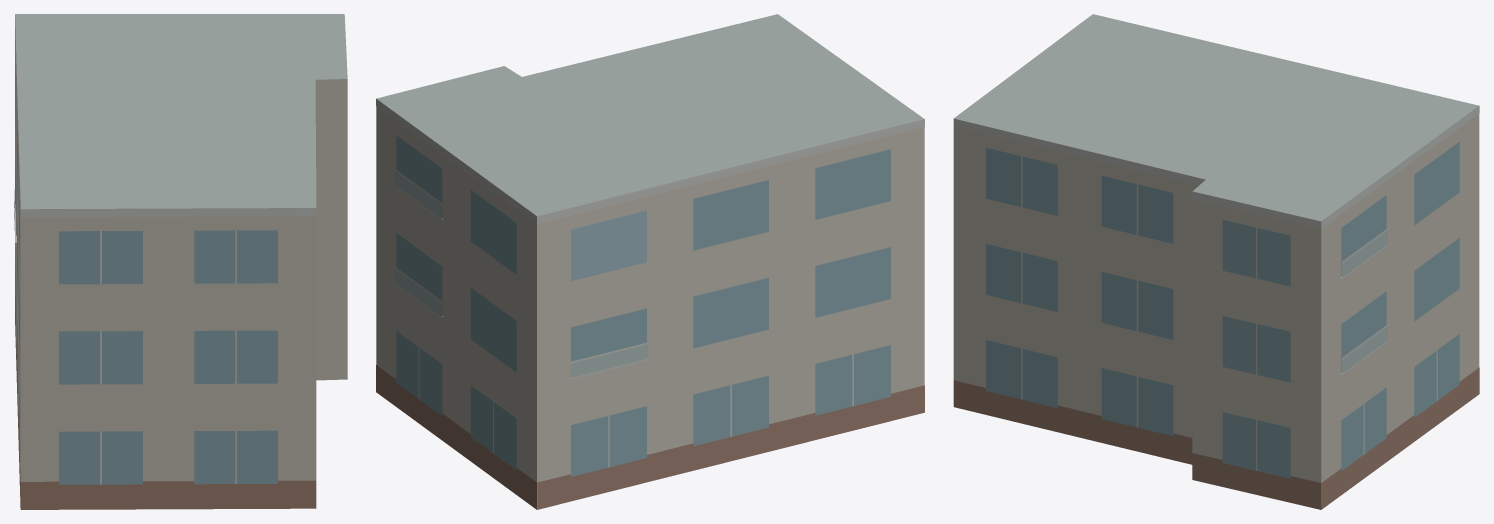
Rendered from survey-upis-32656174.glb.
The picture shows the model from 3 angles, left to right: view 1: azimuth 30°, elevation 25°; view 2: azimuth 150°, elevation 25°; view 3: azimuth 270°, elevation 25°; orthographic projection. The views are drawn at different scales.
Parts seen in each view (by area): view 1: survey-upis-32656174.tmp; view 2: survey-upis-32656174.tmp; view 3: survey-upis-32656174.tmp.
Part boxes in pixels (x1,y1,x2,y2): survey-upis-32656174.tmp: (14,14,347,509); survey-upis-32656174.tmp: (376,14,924,509); survey-upis-32656174.tmp: (953,14,1479,509).
Bounding box in the file's own units: 14.12 × 9.15 × 15.12.
